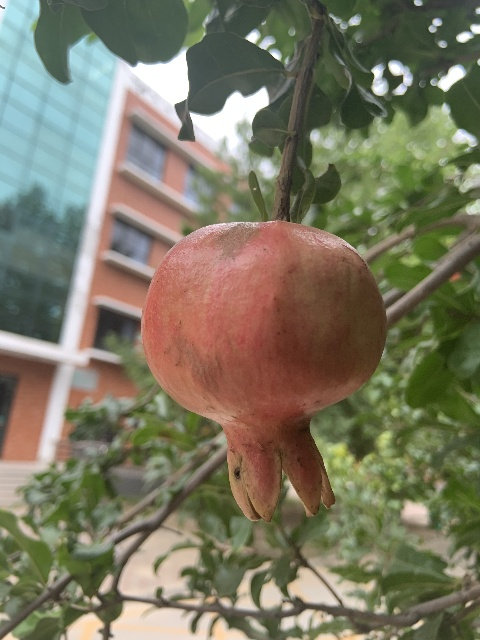ripe: (140, 220, 388, 526)
